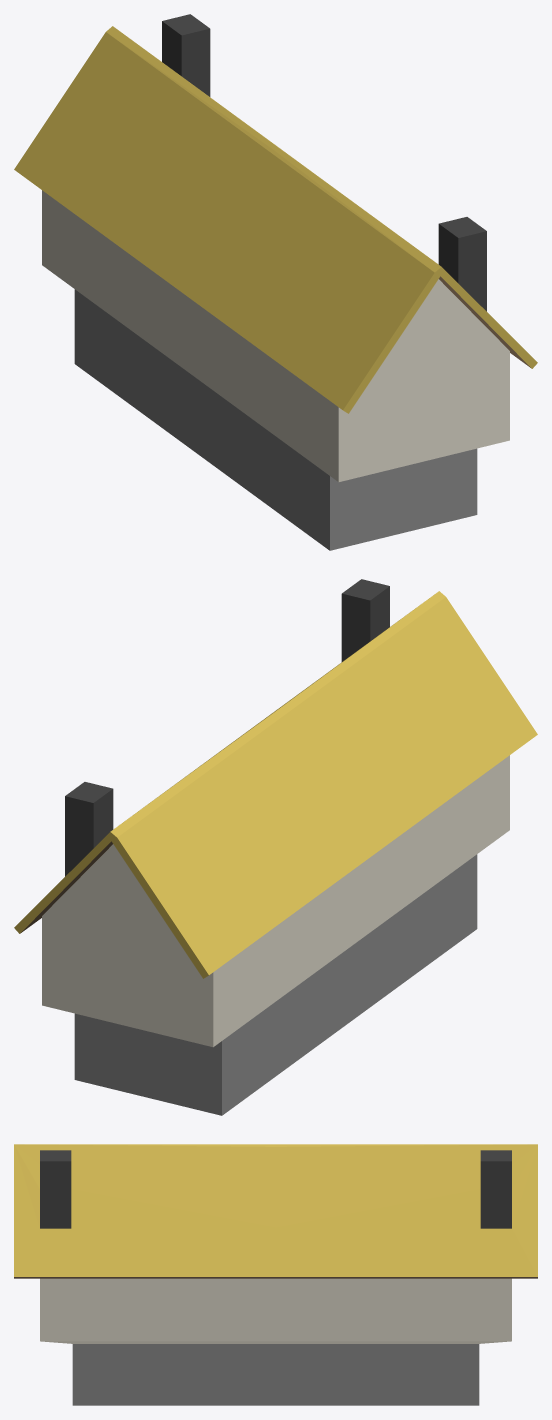
The model's file is VilaNova_House1x3_textured.fbx.
3 renders of one model, top to bottom at view 1: azimuth 30°, elevation 25°; view 2: azimuth 150°, elevation 25°; view 3: azimuth 270°, elevation 25°, orthographic. The views are drawn at different scales.
Visible parts, largest first — view 1: House1x3_LOD0; view 2: House1x3_LOD0; view 3: House1x3_LOD0.
Part boxes in pixels (<box>): House1x3_LOD0: <box>14,14,537,550</box>; House1x3_LOD0: <box>14,579,537,1115</box>; House1x3_LOD0: <box>14,1144,537,1405</box>.
Bounding box in the file's own units: 228 × 337 × 666.
